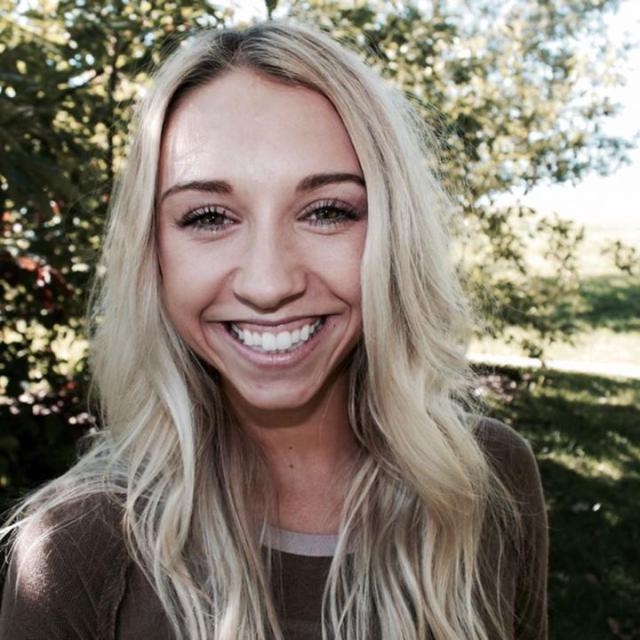adult: (0, 21, 543, 640)
